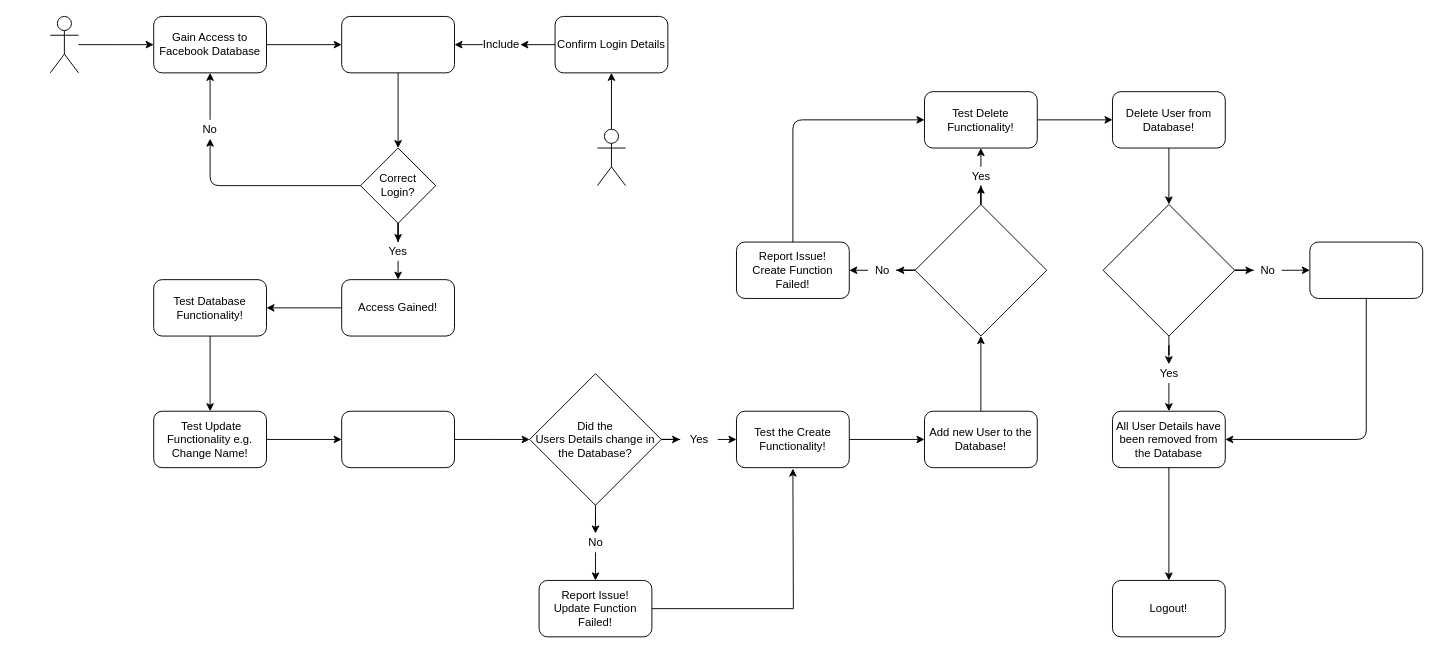
The diagram is 1439 pixels wide and 653 high, and some of its shapes have lost their labels. The shapes that lost their labels are listed below. From the top down, each one's centre as x and y in pixels, then its label:
the point at 63,44: Database Manager
the point at 397,44: Login to Database
the point at 611,157: Administrator
the point at 980,270: Was a new User added to the Database?
the point at 1168,270: Was all User Details deleted from the Database?
the point at 1366,269: Report Issue! Delete Function Dailed!
the point at 397,439: Update User Details!
